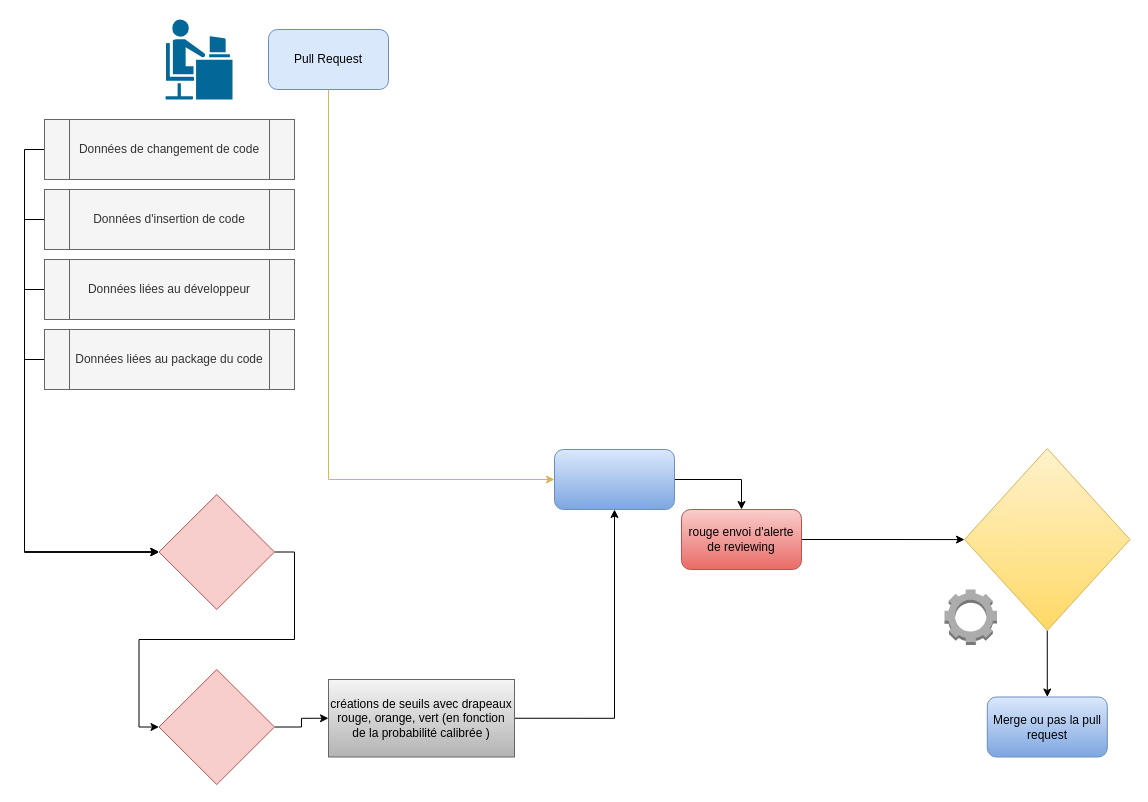
Image size: 1148x802. Some labels were removed from this diagram. The shapes that lost their labels are listed below. From the top down, each one's box as (x1, y1, x2, y2) in pixels, then its label:
(554, 448, 674, 510): Bitbucket
(158, 494, 274, 610): Modèle de classification avec probabilité
(964, 448, 1130, 630): SHAP pour expliquer la prediction et aider le developpeur
(158, 668, 274, 784): Calibrage du modèle
